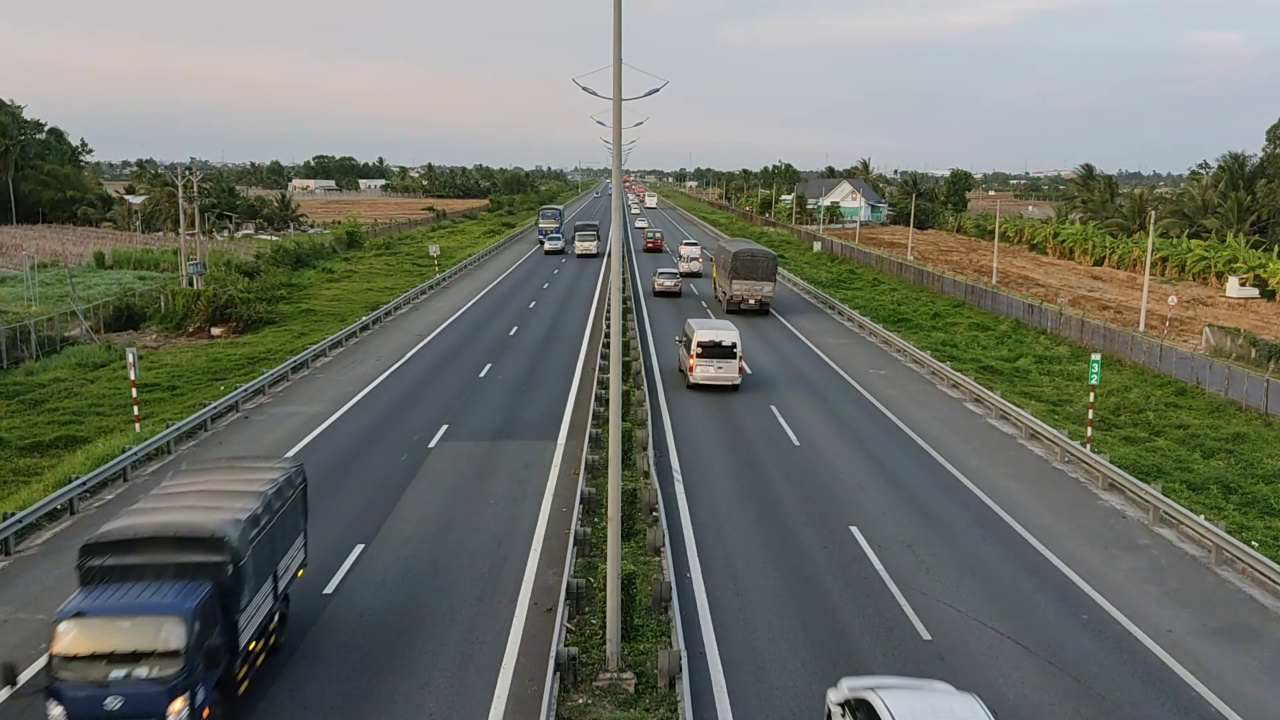car: (675, 315, 747, 394), (651, 267, 683, 297), (642, 229, 666, 252)
truck: (45, 454, 311, 718), (711, 237, 779, 313), (573, 223, 601, 257)
